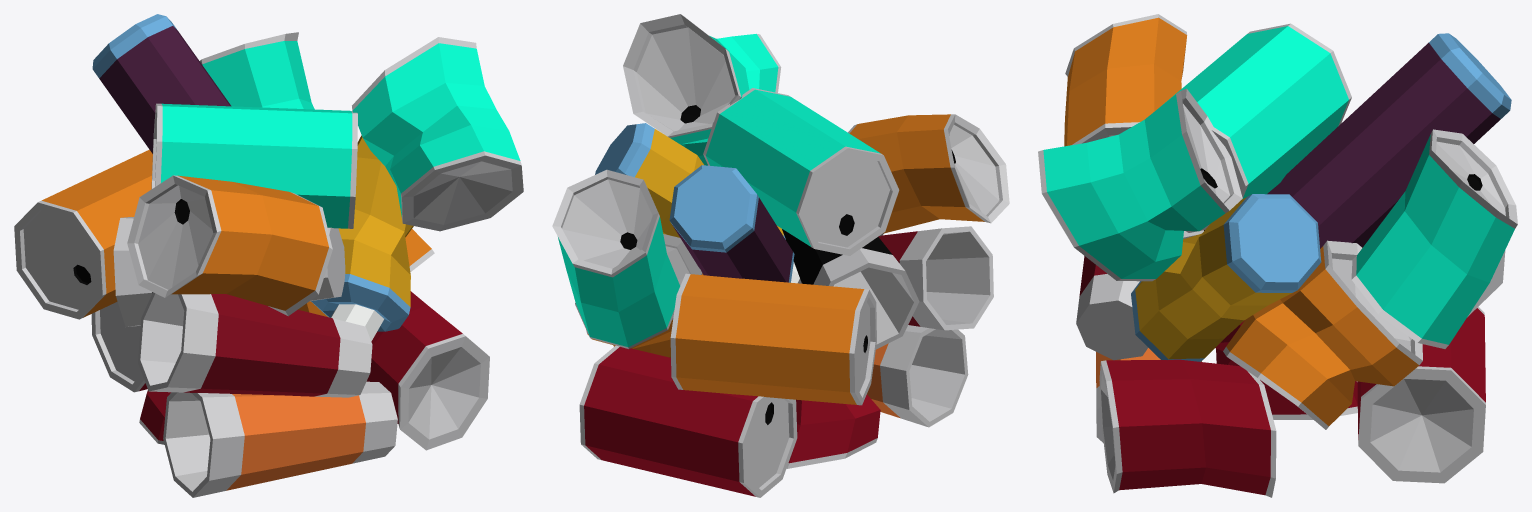
File: TrashInCan.fbx
3 renders of one model, left to right at view 1: azimuth 30°, elevation 25°; view 2: azimuth 150°, elevation 25°; view 3: azimuth 270°, elevation 25°, orthographic. The views are drawn at different scales.
Parts seen in each view (by area): view 1: Can_8, Can_4, Cup_Trash_1, Cup_Trash, Can_6, Can_5, Can_1, Spray_2, Spray_1, Can_7, Cup_Trash_2, Can (+2 smaller); view 2: Can_5, Can, Can_6, Can_7, Can_8, Can_4, Spray_1, Cup_Trash_1, Cup_Trash, Cup_Trash_2, Spray_2, Can_2 (+1 smaller); view 3: Can_8, Can_7, Spray_1, Can_1, Spray_2, Can_3, Can_6, Can, Can_4, Cup_Trash_1, Can_2, Cup_Trash.
Boxes of the visible parts, x1,y1,x2,y2 form: Can_8: [352, 37, 523, 231]; Can_4: [127, 175, 332, 316]; Cup_Trash_1: [138, 292, 372, 397]; Cup_Trash: [163, 381, 397, 497]; Can_6: [151, 103, 357, 228]; Can_5: [14, 149, 152, 319]; Can_1: [366, 291, 489, 450]; Spray_2: [311, 135, 413, 341]; Spray_1: [92, 14, 231, 153]; Can_7: [199, 32, 314, 109]; Cup_Trash_2: [113, 217, 345, 326]; Can: [91, 301, 147, 392]; Can_5: [670, 273, 876, 405]; Can: [579, 345, 797, 497]; Can_6: [703, 88, 899, 255]; Can_7: [552, 169, 680, 348]; Can_8: [623, 14, 781, 165]; Can_4: [848, 114, 1009, 236]; Spray_1: [669, 165, 794, 282]; Cup_Trash_1: [798, 226, 993, 330]; Cup_Trash: [867, 325, 968, 427]; Cup_Trash_2: [782, 229, 919, 349]; Spray_2: [595, 123, 799, 283]; Can_2: [786, 394, 880, 468]; Can_8: [1038, 88, 1242, 281]; Can_7: [1351, 129, 1517, 348]; Spray_1: [1267, 33, 1511, 248]; Can_1: [1099, 359, 1276, 497]; Spray_2: [1131, 194, 1321, 361]; Can_3: [1223, 240, 1422, 429]; Can_6: [1159, 23, 1351, 232]; Can: [1357, 307, 1485, 483]; Can_4: [1064, 14, 1187, 146]; Cup_Trash_1: [1076, 256, 1148, 360]; Can_2: [1215, 320, 1357, 419]; Cup_Trash: [1096, 348, 1201, 442].
Size of the model in its own units: 31.28 by 30.83 by 32.71.
Materials: 1 (1 with a texture image).
